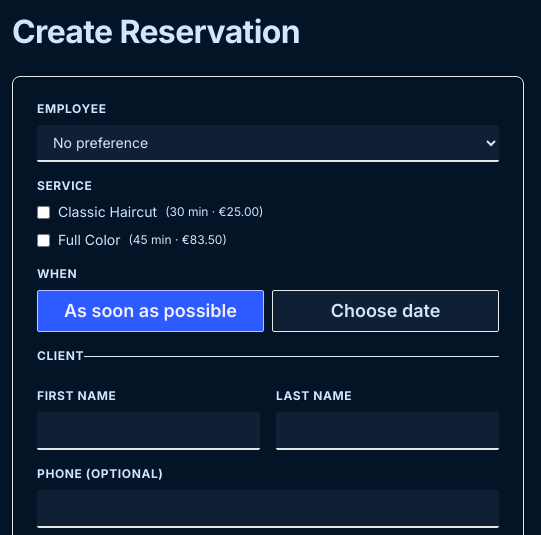
it: CreateReservation (crear) › "Load more" → añade la siguiente tanda con from=nextFrom
Select "Employee Demo" in the dropdown labelled "Employee": (268, 144) [37,125,499,162]
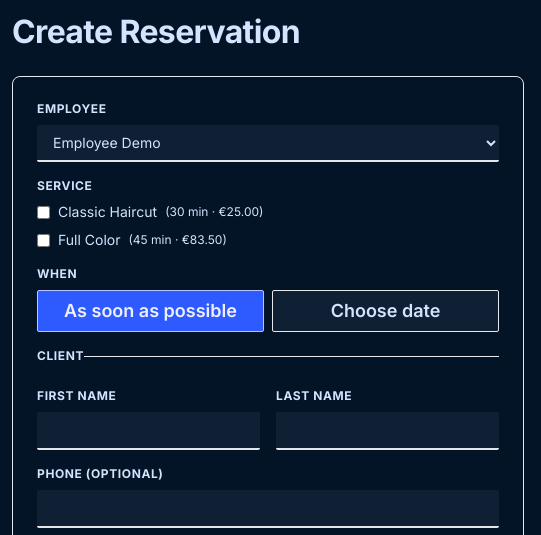
Click the checkbox labelled "Classic Haircut (30 min · €25.00)": (44, 212) [37,206,50,218]
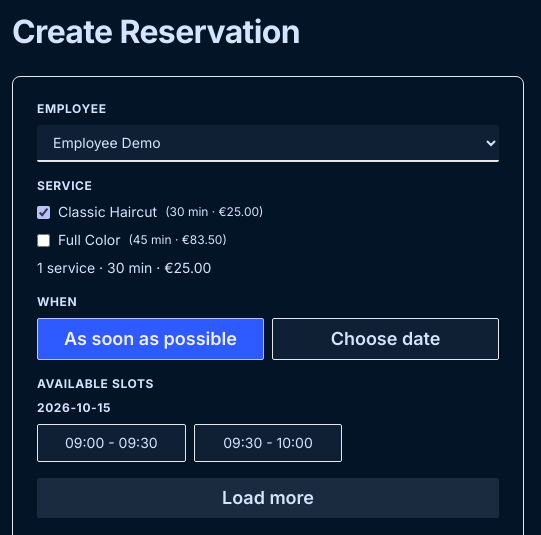
Expected: the text "09:00 - 09:30" is shown, [65,434,158,451]
Expected: the text "09:30 - 10:00" is shown, [223,434,313,451]
Click the button "Load more": (268, 498) [37,478,499,518]
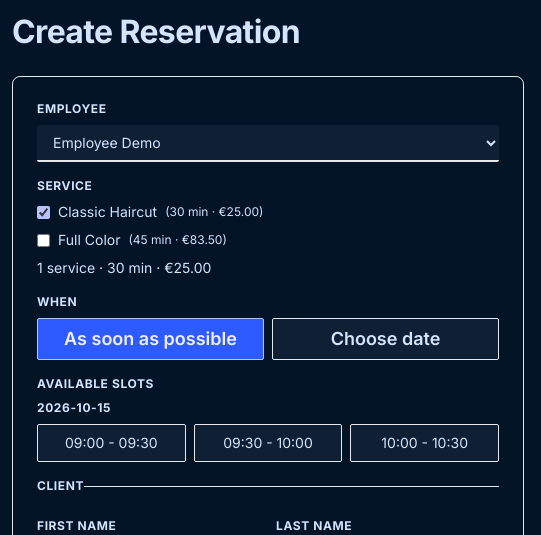
Expected: the text "10:00 - 10:30" is shown, [381,434,468,451]
Expected: the button "Load more" is gone
